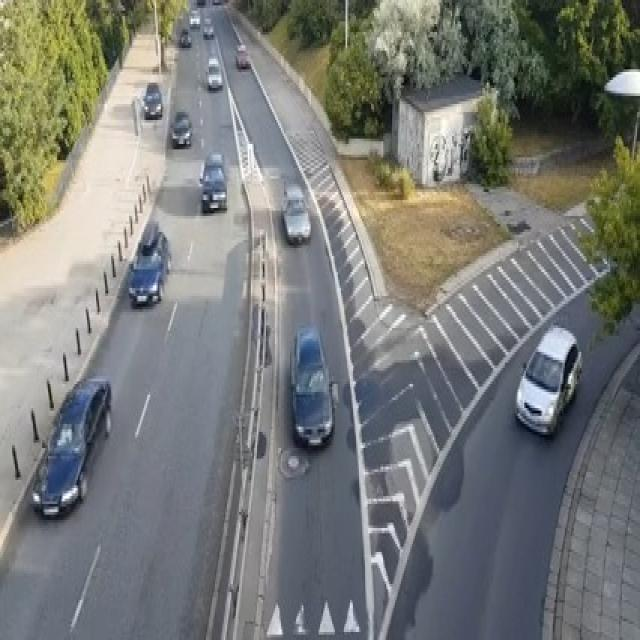car: (30, 376, 111, 517), (514, 323, 581, 437), (290, 323, 338, 448), (128, 218, 171, 306), (279, 182, 311, 246), (198, 149, 227, 211), (170, 109, 192, 147), (141, 80, 162, 117), (206, 56, 222, 88), (234, 42, 250, 66), (179, 27, 191, 45), (203, 16, 213, 37), (189, 8, 200, 27), (195, 0, 206, 3), (210, 0, 221, 3)
